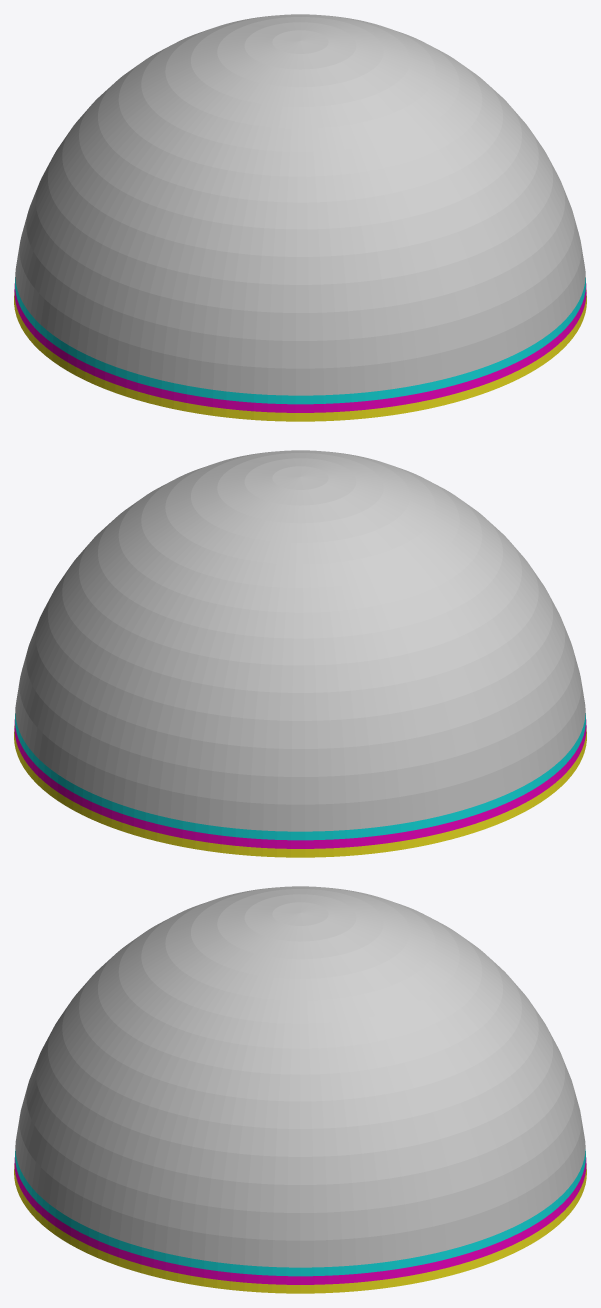
Rendered from 3d_UI-Dome.fbx.
3 views of the same model, one above another, from view 1: azimuth 30°, elevation 25°; view 2: azimuth 150°, elevation 25°; view 3: azimuth 270°, elevation 25° (orthographic).
Visible parts, largest first — view 1: GEO_UI-Dome_Dome; view 2: GEO_UI-Dome_Dome; view 3: GEO_UI-Dome_Dome.
Boxes of the visible parts, x1=… form: GEO_UI-Dome_Dome: x1=14, y1=14, x2=586, y2=421; GEO_UI-Dome_Dome: x1=14, y1=450, x2=586, y2=857; GEO_UI-Dome_Dome: x1=14, y1=886, x2=586, y2=1293.
Size of the model in its own units: 24 by 24 by 12.
